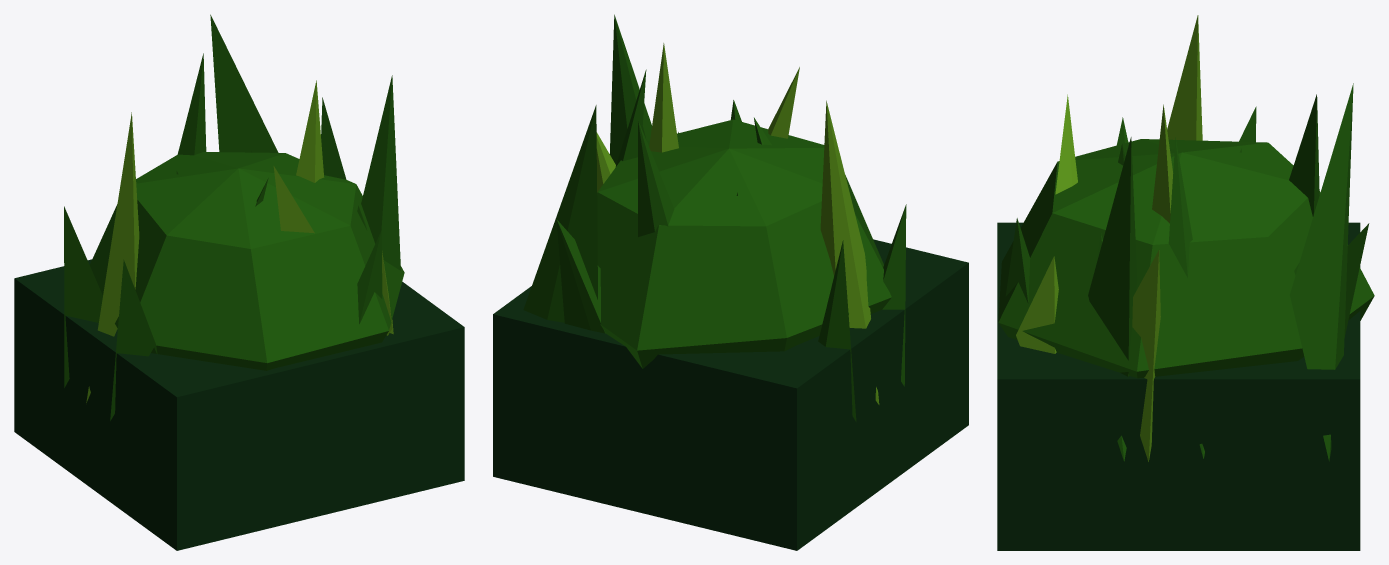
The model's file is edge_hedge_short.gltf.
3 views of the same model, side by side, from view 1: azimuth 30°, elevation 25°; view 2: azimuth 150°, elevation 25°; view 3: azimuth 270°, elevation 25° (orthographic). The views are drawn at different scales.
Visible parts, largest first — view 1: edge_hedge_short; view 2: edge_hedge_short; view 3: edge_hedge_short.
Boxes of the visible parts, bbox=[...] form: edge_hedge_short: bbox=[14, 14, 464, 550]; edge_hedge_short: bbox=[493, 14, 968, 550]; edge_hedge_short: bbox=[997, 15, 1374, 550].
Size of the model in its own units: 0.979 by 1.17 by 0.9566.
